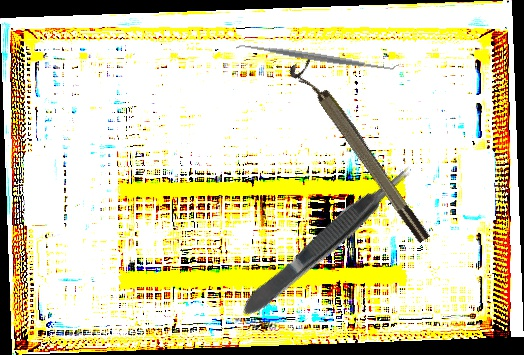Fixation Ring: (286, 53, 434, 251)
Spatula Surgical: (235, 35, 400, 79)
Tissue Forceps: (233, 158, 421, 322)
